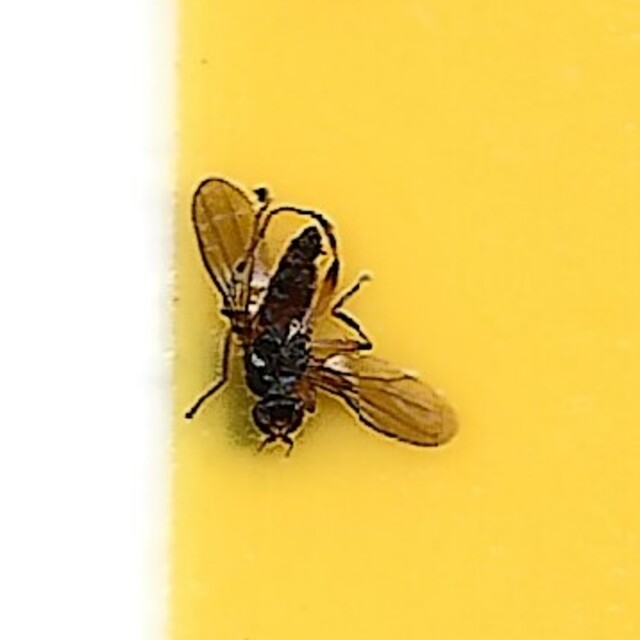Brachycera: (179, 176, 461, 464)
